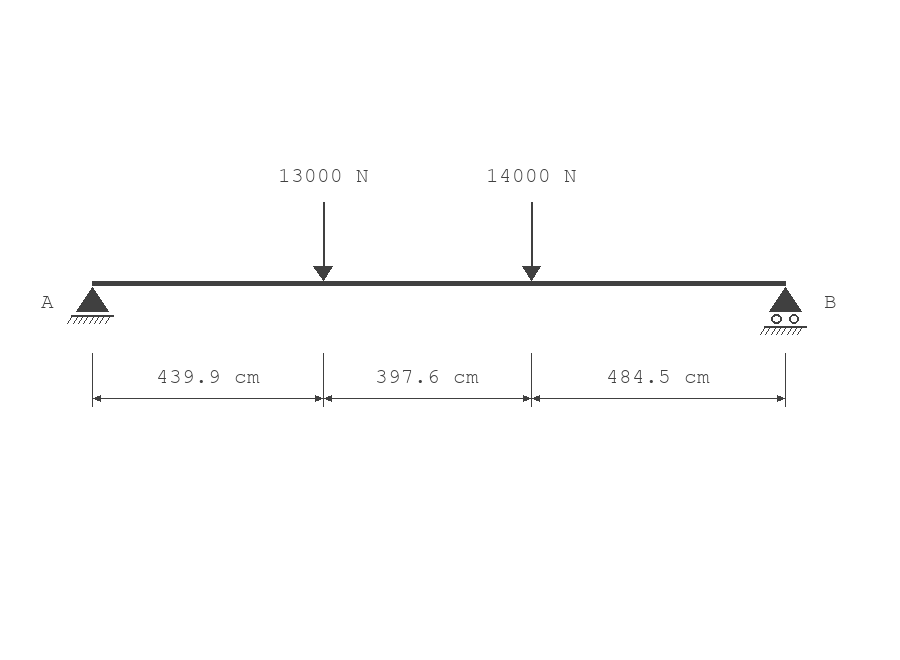pin_support: (67, 287, 114, 324)
point_load: (313, 202, 333, 281), (522, 202, 541, 281)
roller_support: (760, 287, 807, 335)
